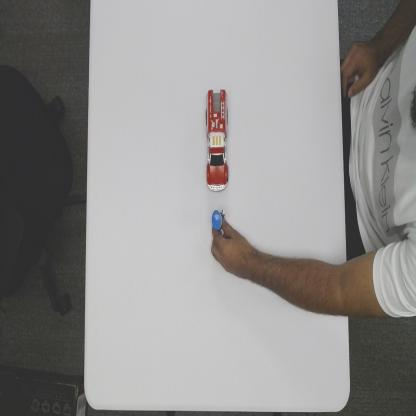Arm: (249, 249, 348, 322)
Firetruck: (204, 88, 230, 196)
Hand: (210, 220, 252, 279)
